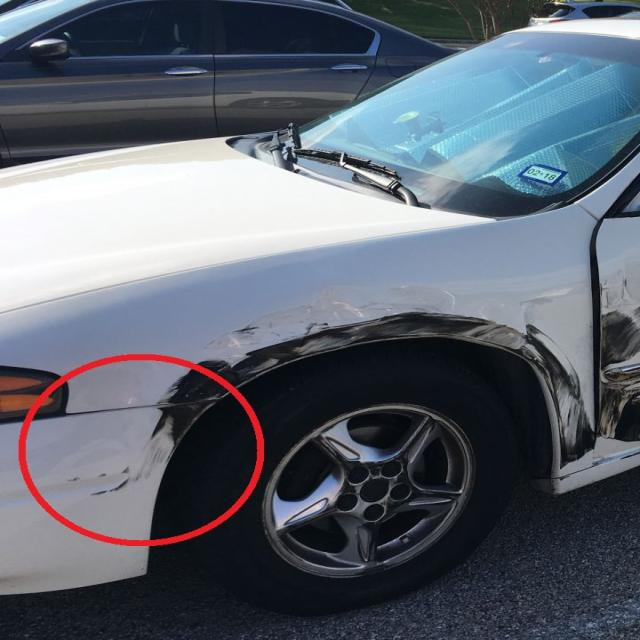dent: (210, 281, 553, 381)
scratch: (62, 277, 640, 505)
